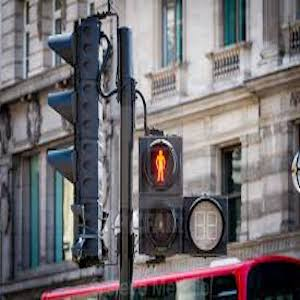red: (152, 142, 170, 188)
